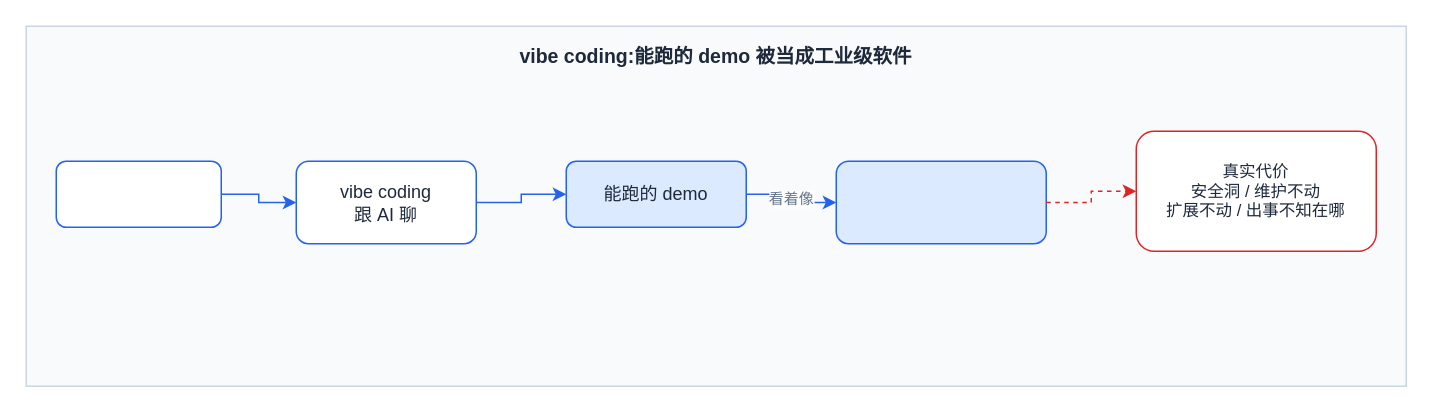
Image size: 1433x413. Some labels were removed from this diagram. Here are the shapes that lost their labels. From the top down, the centre of each, then its label:
the point at 138,193: 产品想法
the point at 940,202: 🎉 上线 (看着像软件)
